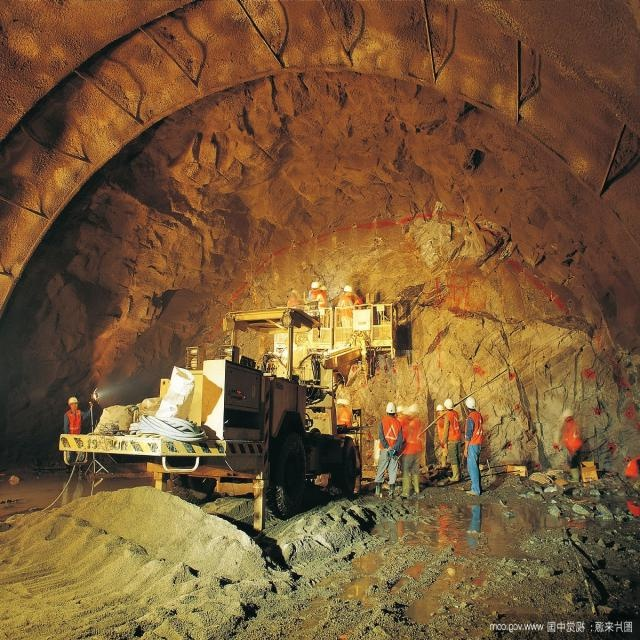Con_Casco: (67, 395, 79, 410), (386, 401, 396, 415)
Con_Chaleco: (380, 416, 400, 453), (64, 410, 80, 435)
